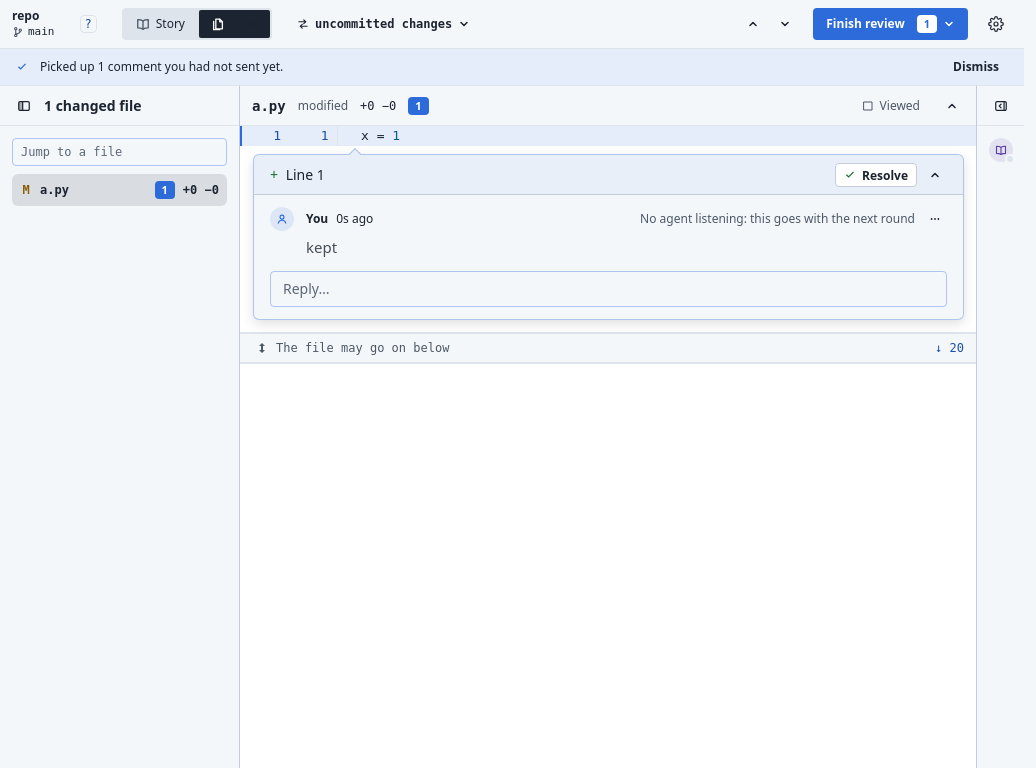
Test: comments picked up from before a reload › are said once, until the reader puts the notice away
The width and height of the screenshot is (1036, 768).
Check: the element with test id "restored-notice" shows "Picked up 1 comment you had not sent yet.", box [40,58,283,75]
Click the button with test id "dismiss-restored".
click(976, 67)  # box [944,55,1008,79]
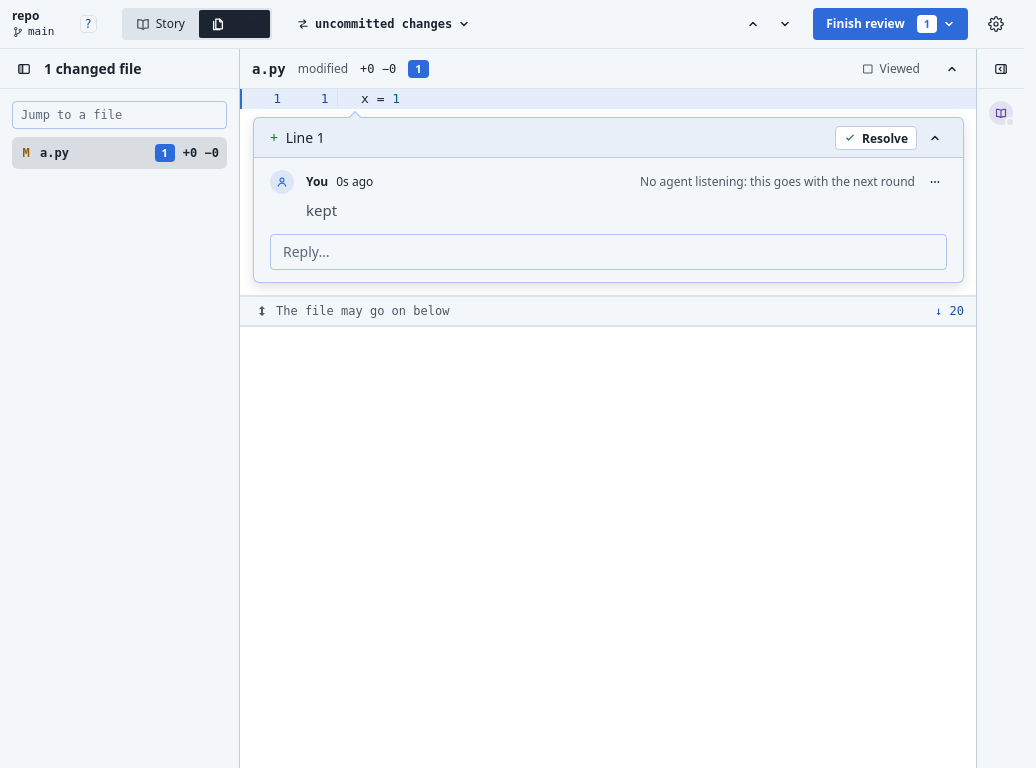
Check: the element with test id "restored-notice" is gone
